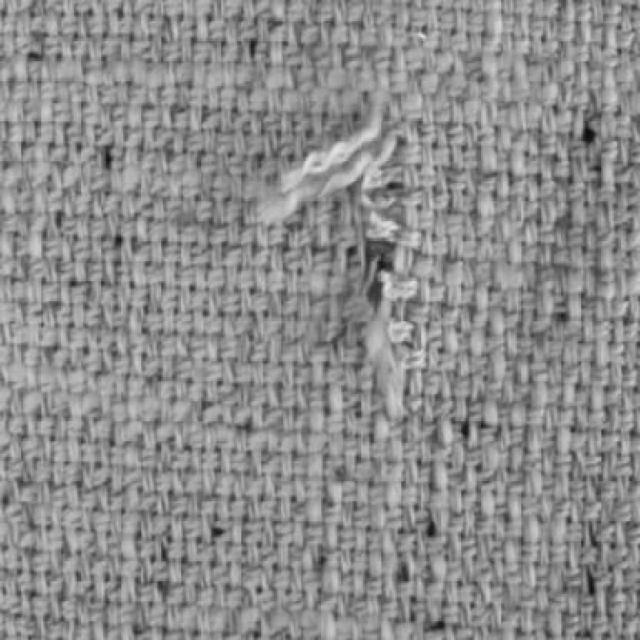seam: (263, 114, 458, 400), (558, 108, 616, 176), (227, 24, 293, 79), (83, 138, 150, 184)
